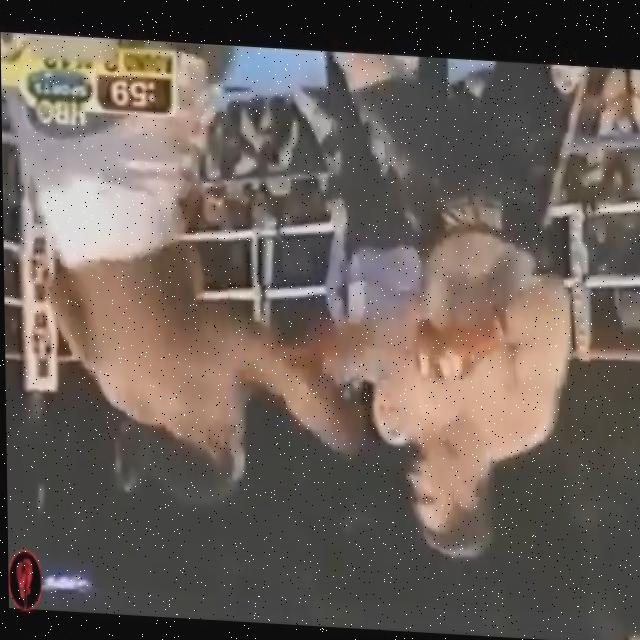Jab: (95, 226, 383, 497)
